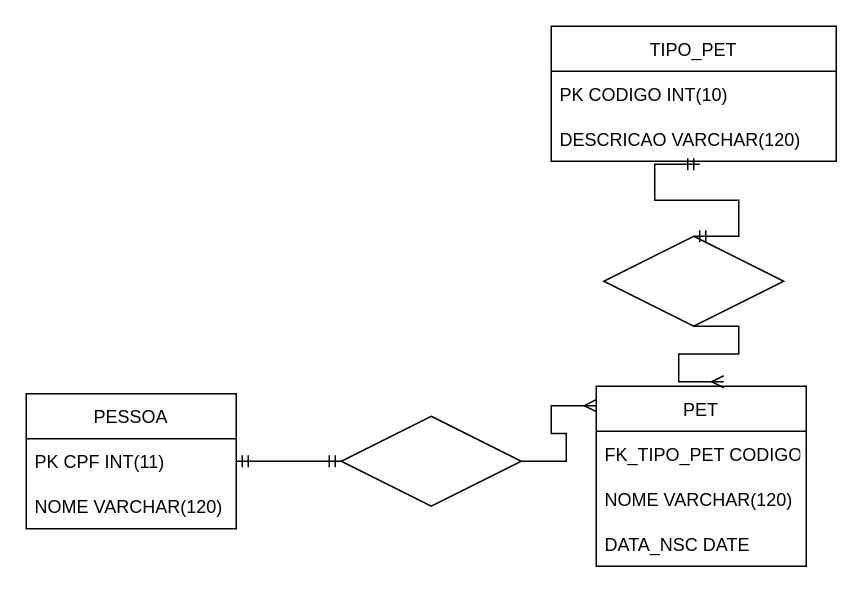
Some shapes in this 863 by 593 pixel diagram are drawn without their labels. Here are the shapes that lost their labels. From the top down, the centre of each, then its label:
(x=693, y=280): PERTENCE
(x=430, y=460): ADOTA
